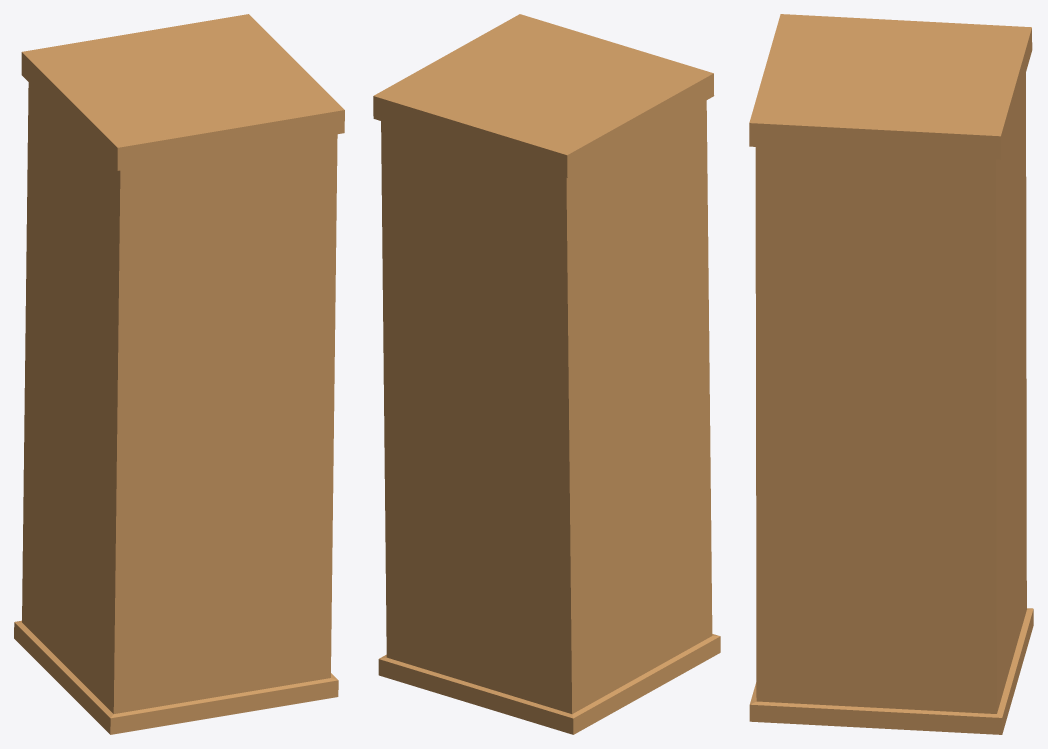
Rendered from house.fbx.
3 renders of one model, left to right at view 1: azimuth 30°, elevation 25°; view 2: azimuth 150°, elevation 25°; view 3: azimuth 270°, elevation 25°, orthographic. The views are drawn at different scales.
Visible parts, largest first — view 1: House_7_6_8; view 2: House_7_6_8; view 3: House_7_6_8.
Part boxes in pixels (box(x1,y1,x2,y2)): House_7_6_8: box(14, 14, 344, 734); House_7_6_8: box(373, 14, 720, 734); House_7_6_8: box(749, 14, 1033, 734).
Size of the model in its own units: 468 by 1073 by 457.
